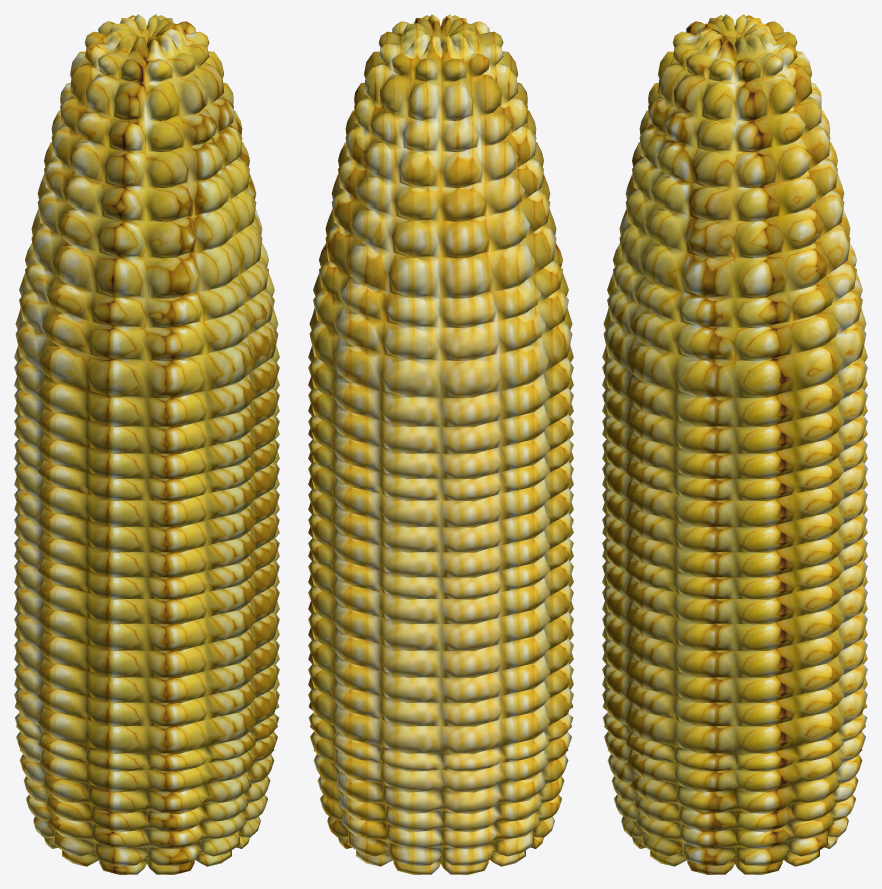
Rendered from Corn_without_Ear 1.fbx.
3 renders of one model, left to right at view 1: azimuth 30°, elevation 25°; view 2: azimuth 150°, elevation 25°; view 3: azimuth 270°, elevation 25°, orthographic.
Visible parts, largest first — view 1: pCylinder21; view 2: pCylinder21; view 3: pCylinder21.
Boxes of the visible parts, x1,y1,x2,y2 form: pCylinder21: [14, 14, 279, 874]; pCylinder21: [308, 14, 573, 874]; pCylinder21: [602, 14, 867, 874].
Size of the model in its own units: 2.49 by 8.35 by 2.49.
